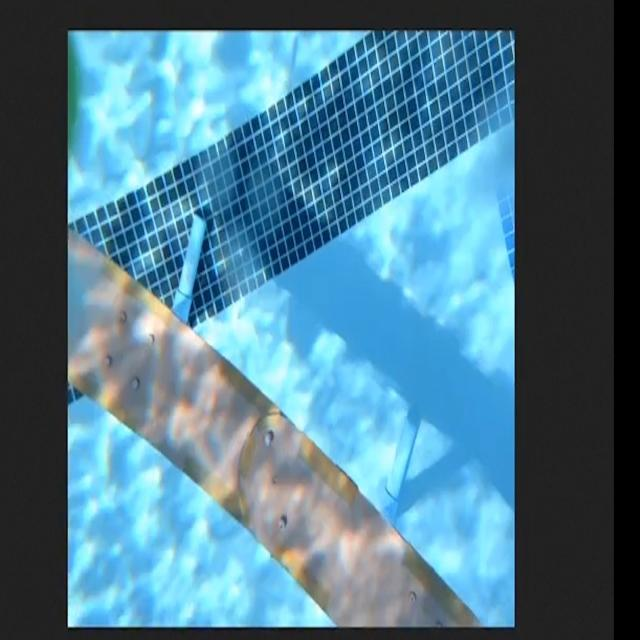Path: (67, 210, 483, 626)
